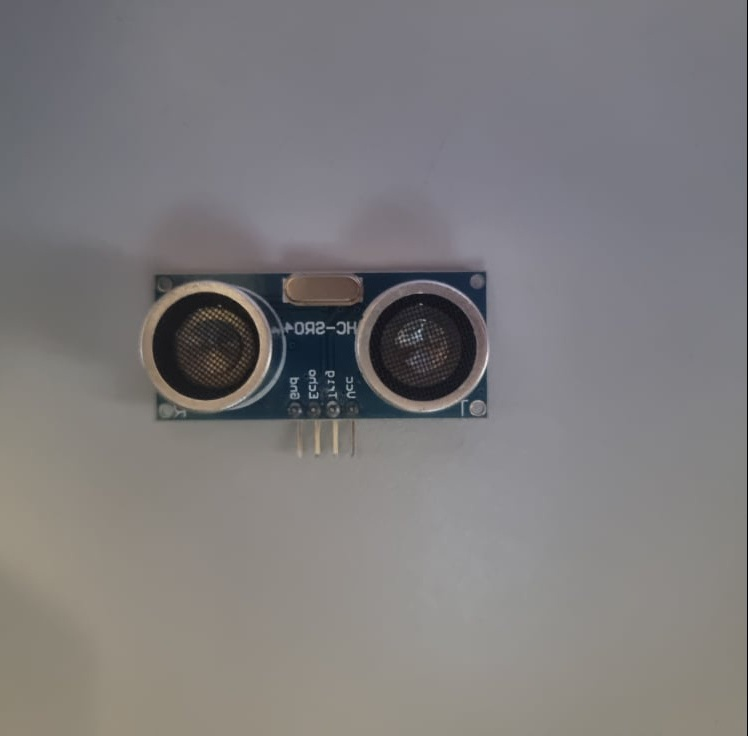SENSOR: (139, 269, 494, 429)
